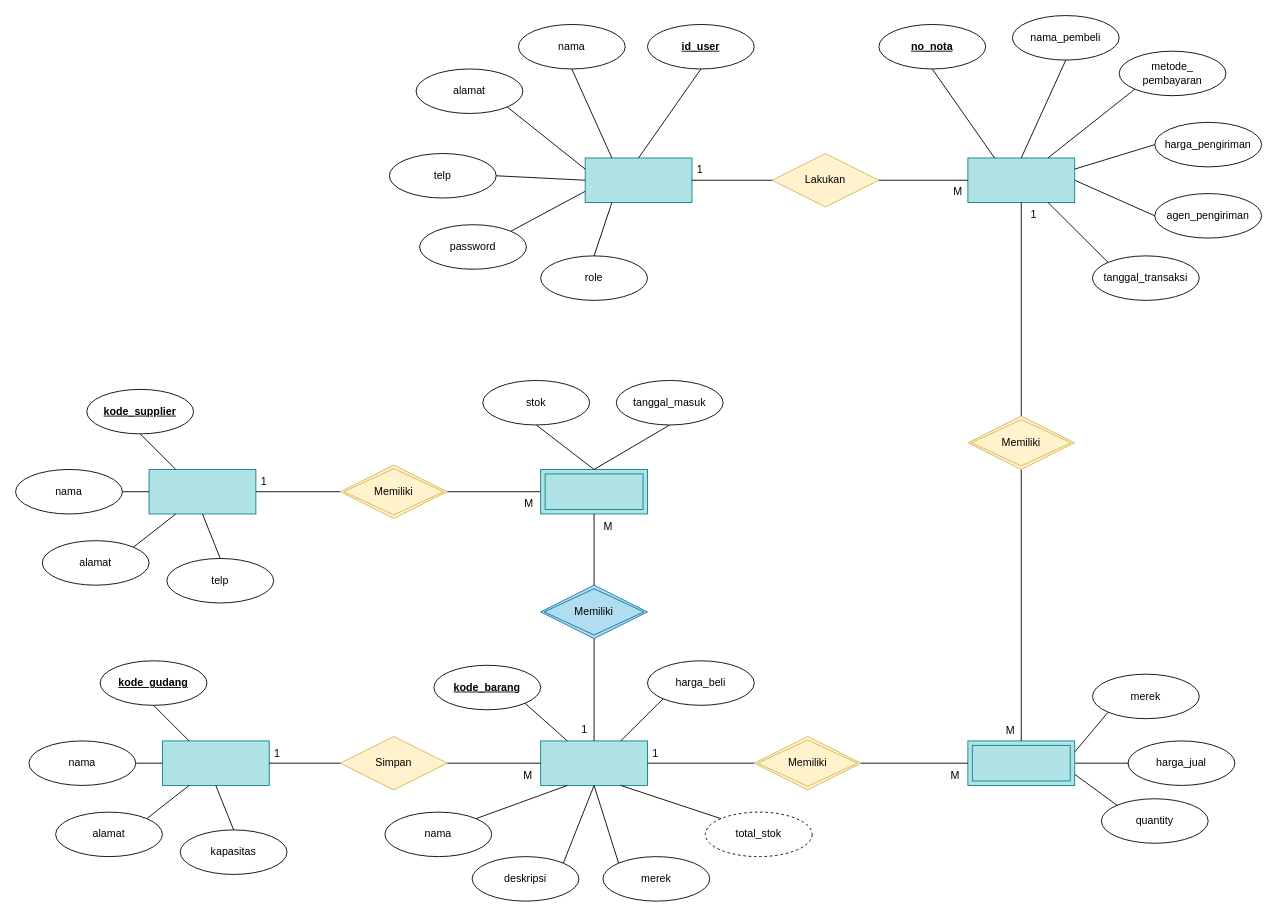
The diagram is 1277 pixels wide and 917 high, and some of its shapes have lost their labels. The shapes that lost their labels are listed below. From the top down, each one's centre as x and y in pixels, then its label:
the point at 638,179: User
the point at 1021,179: Transaksi
the point at 202,491: Supplier
the point at 593,491: Detail Supplier
the point at 215,762: Gudang
the point at 593,762: Barang
the point at 1021,762: Detail Transaksi
